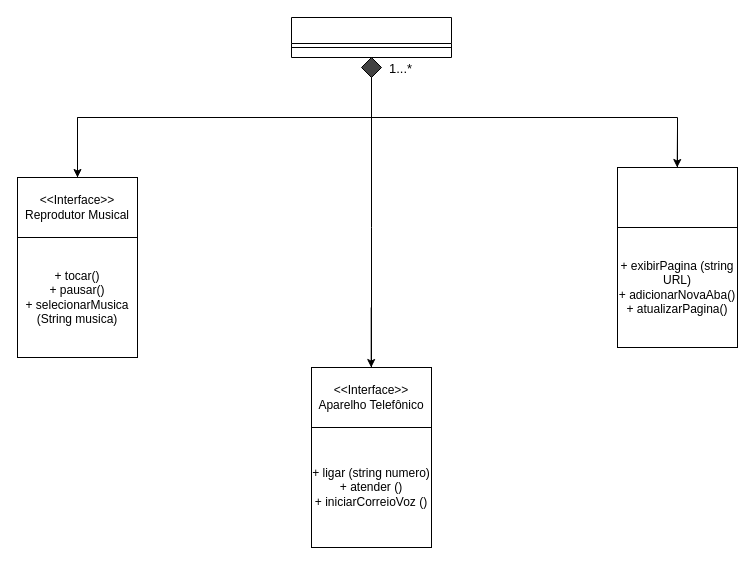
This 755x565 diagram has some shape labels left out. Each missing label, with the box of its shape:
<<Interface>> Navegador na Internet: (616, 166, 738, 228)
Iphone: (290, 16, 452, 58)
